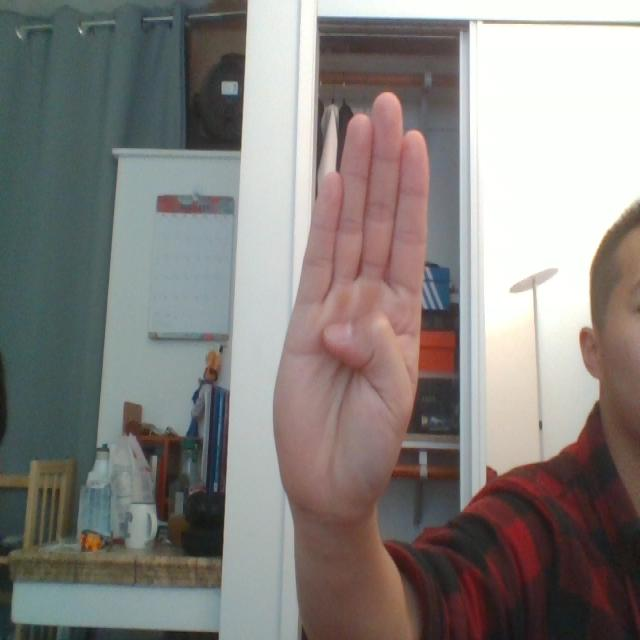B: (278, 18, 448, 516)
